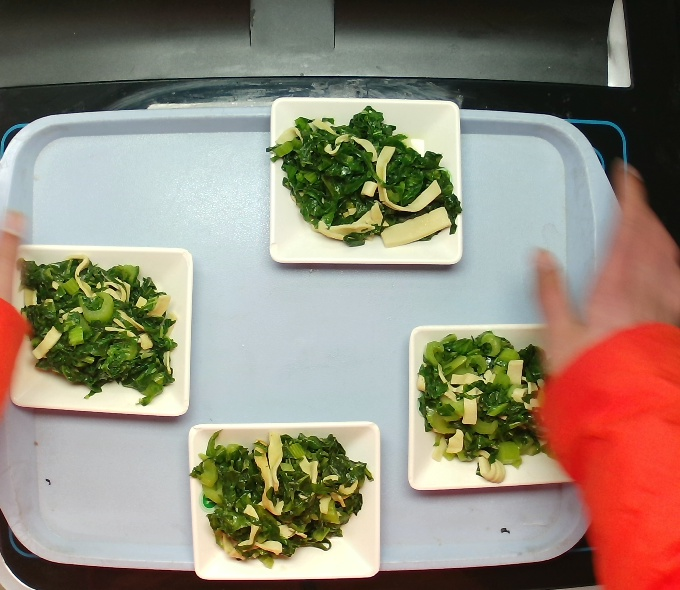wcq-QingCaiChaoQianZhang: (271, 98, 469, 250), (192, 419, 378, 573), (4, 253, 191, 397), (412, 317, 565, 487)
